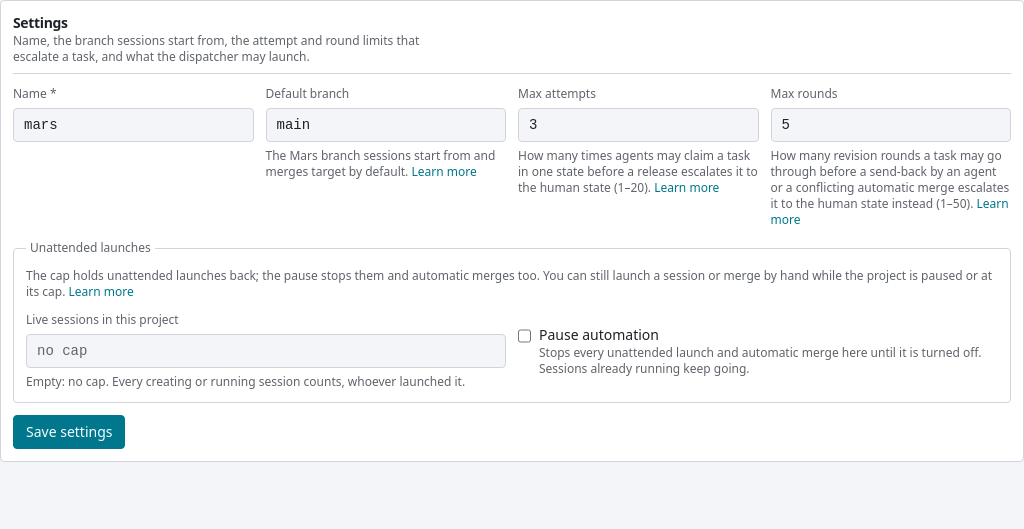
Test: ProjectSettingsForm › stops saying a save landed once the values change
Replace the text in the field labelled "Name *" with "mars-2" at (133, 125), box x1=13 y1=108 x2=254 y2=142
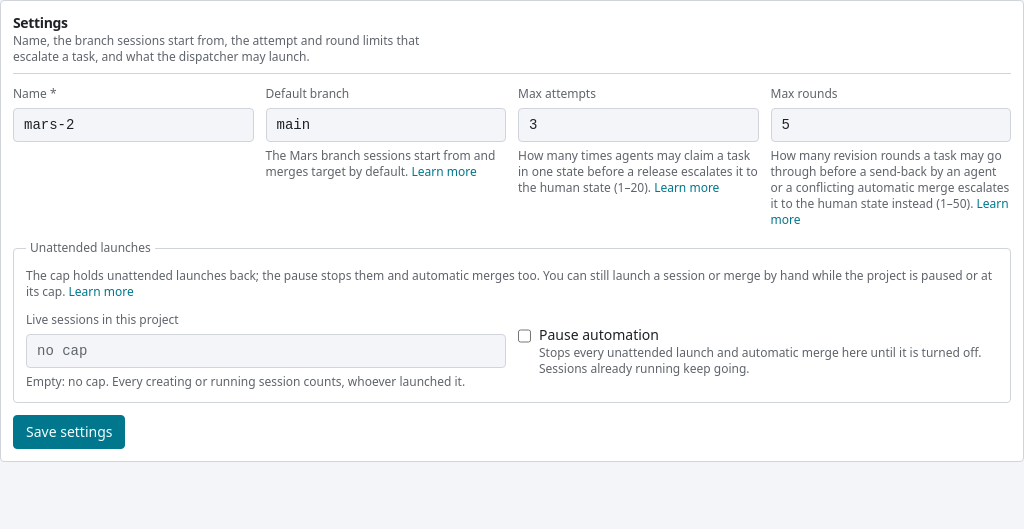
Click the button "Save settings".
click(69, 432)  # box x1=13 y1=415 x2=126 y2=449
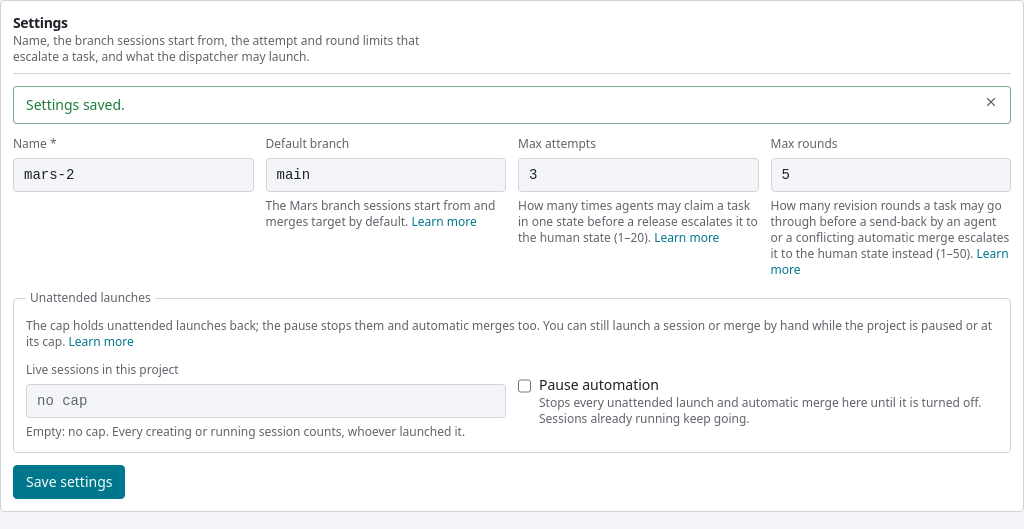
Check: the text "Settings saved." is shown, box x1=26 y1=95 x2=125 y2=114
Replace the text in the field labelled "Name *" with "mars-3" at (133, 175), box x1=13 y1=158 x2=254 y2=192
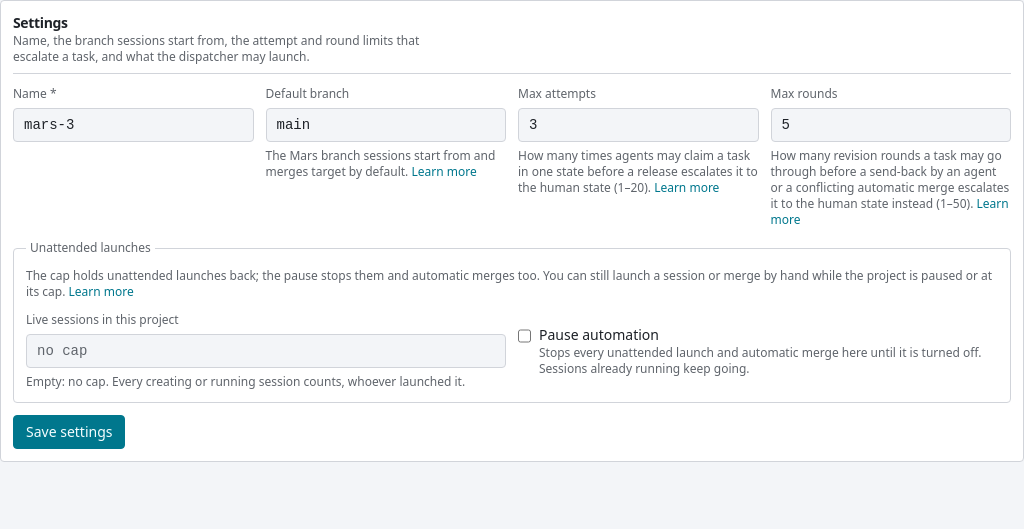
Check: the text "Settings saved." is gone
